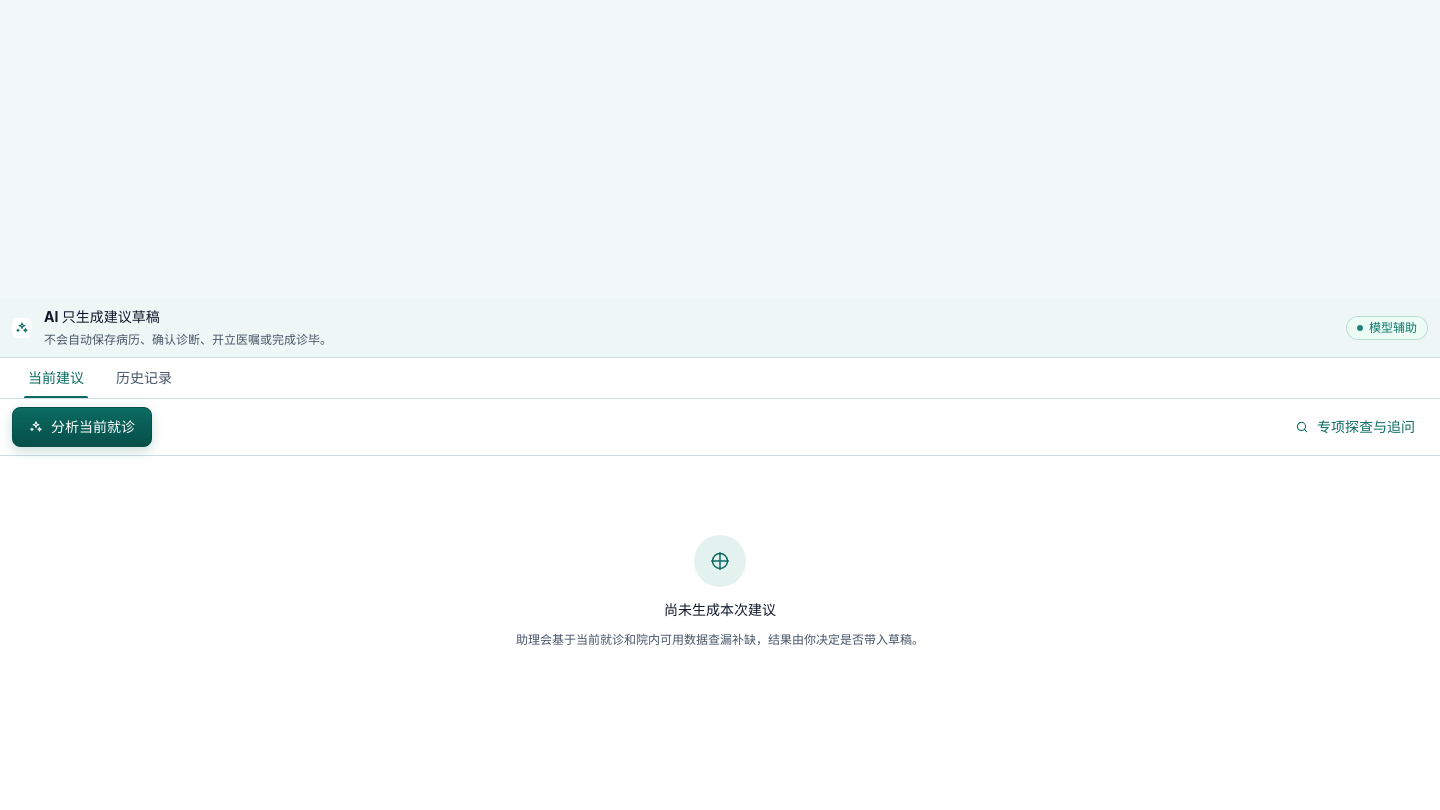
Test: ClinicalAiAssistantPanel plan preflight › shows deterministic medication blockers and explicit unevaluated safety boundaries (drawer)
Click the button "分析当前就诊".
click(82, 427)  # box [12, 407, 152, 447]
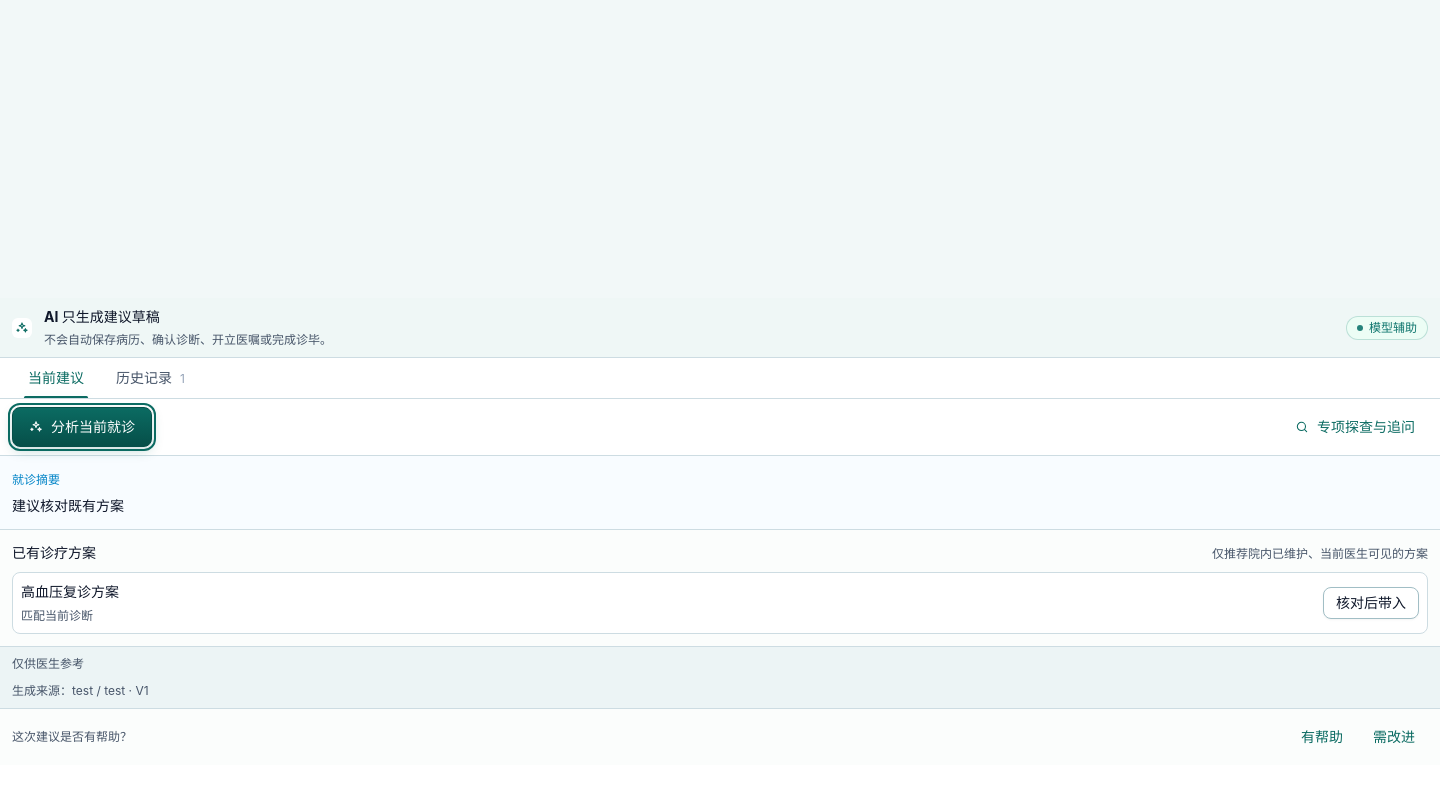
Click the button "核对后带入".
click(1371, 603)  # box [1323, 587, 1419, 619]
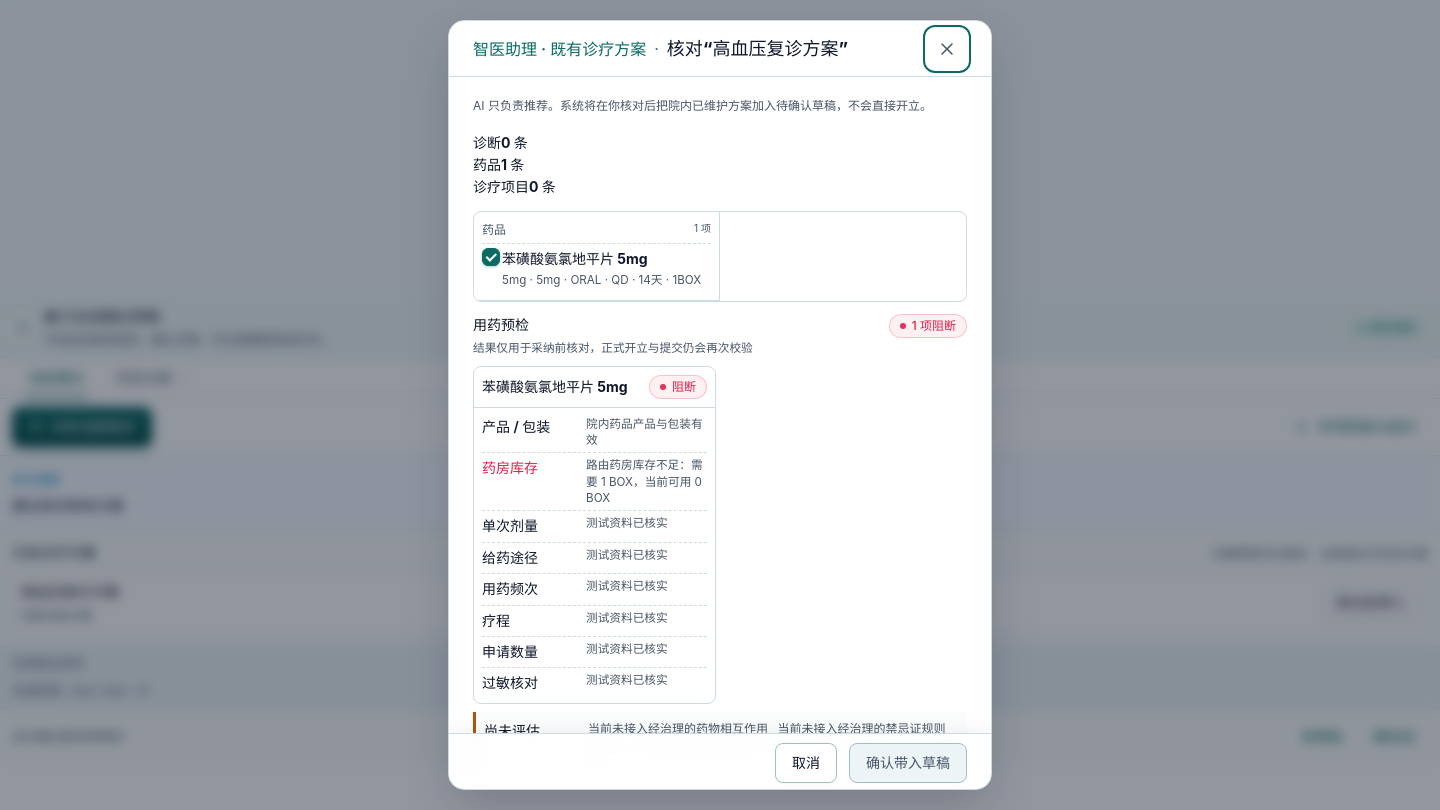
Now the text "路由药房库存不足：需要 1 BOX，当前可用 0 BOX" is shown, box [586, 457, 707, 506]
Now the text "当前未接入经治理的药物相互作用规则源，系统未对此项作出安全判断。" is shown, box [588, 720, 770, 772]
Now the text "当前未接入经治理的禁忌证规则源，系统未对此项作出安全判断。" is shown, box [778, 720, 959, 772]
